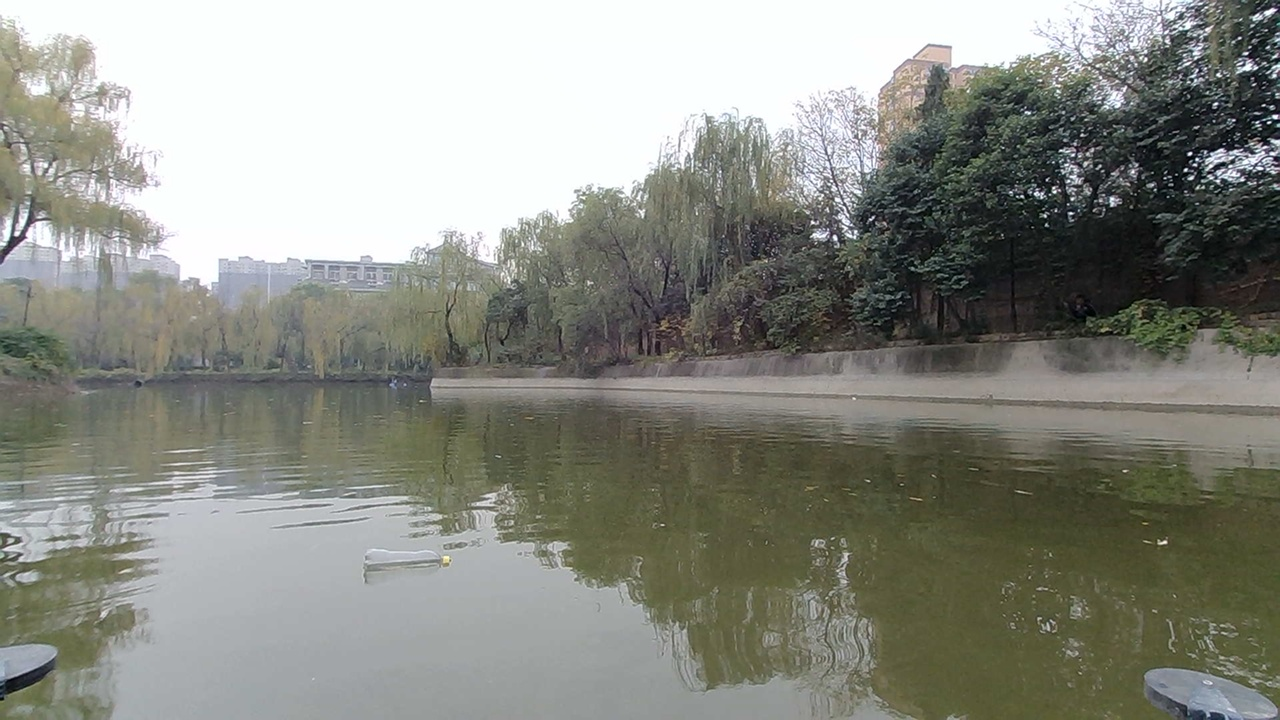bottle: (354, 534, 451, 592)
